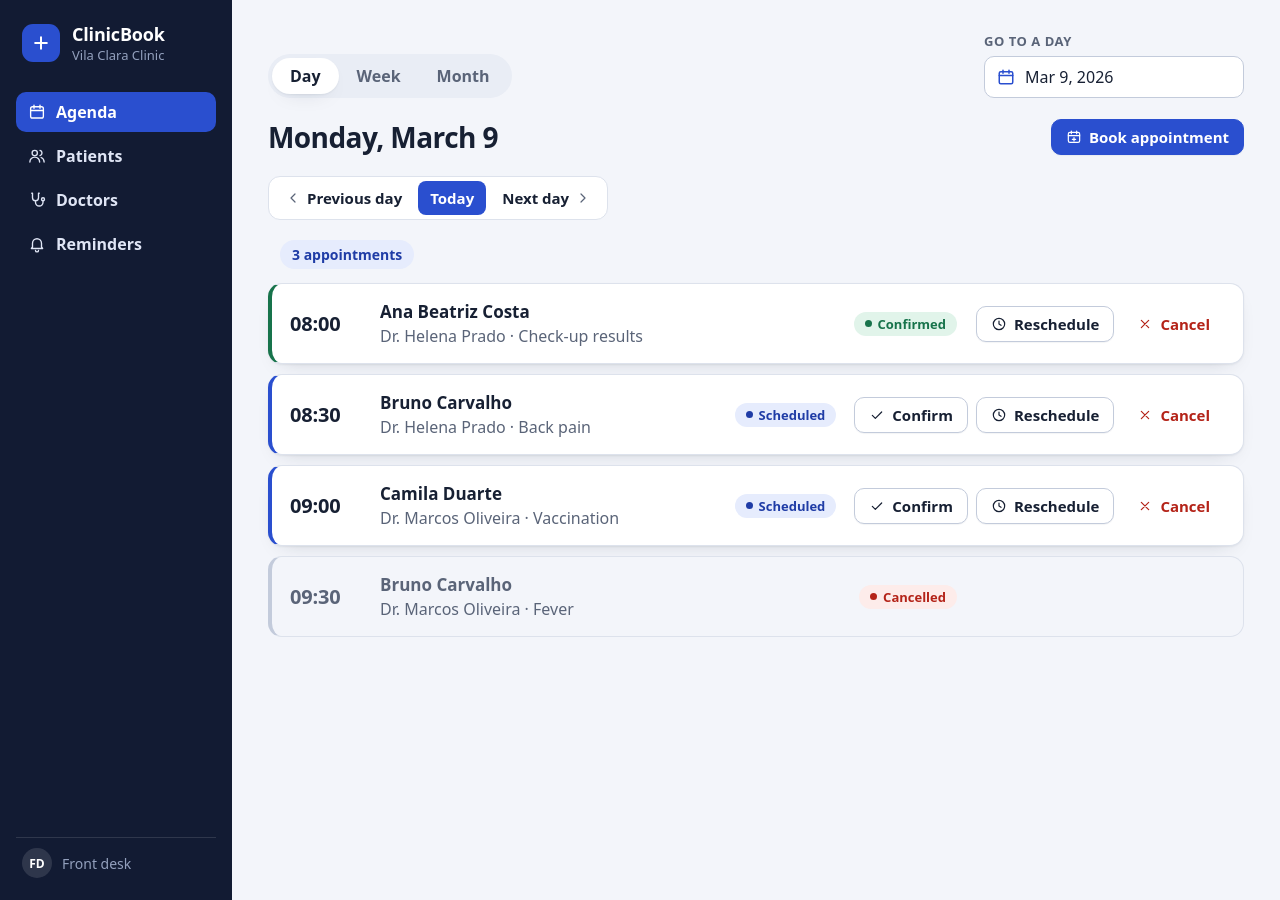
Test: the toasts › say that an appointment of the agenda was confirmed, or why not
Expected: the navigation bar named "Main" is shown, [16,92,216,264]
Click the button with aria-label "Confirm Bruno Carvalho at 08:30".
click(911, 414)  # box [854,396,968,432]
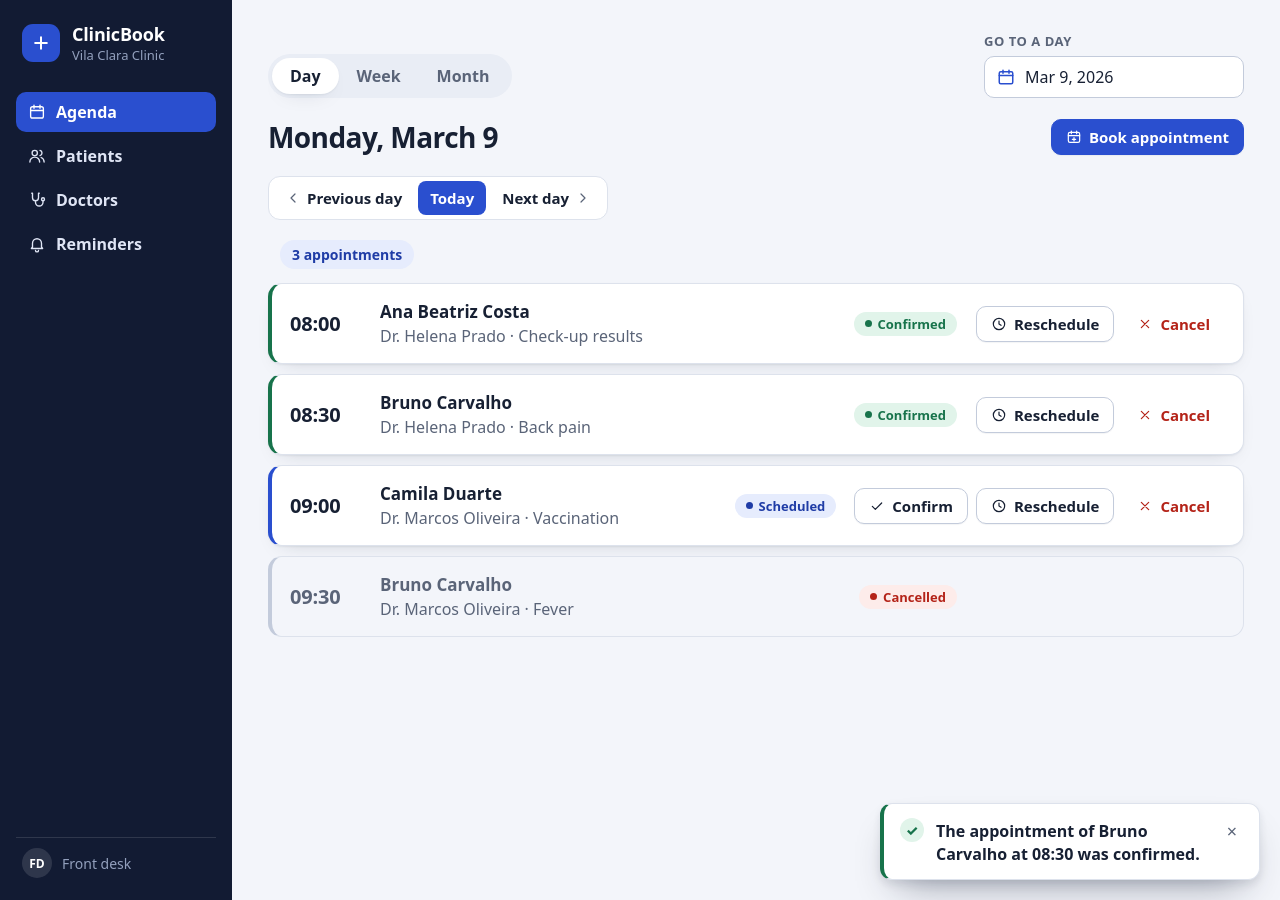
Expected: the message reads "The appointment of Bruno Carvalho at 08:30 was confirmed.", [936,820,1200,865]
Click the button with aria-label "Confirm Camila Duarte at 09:00".
click(911, 506)  # box [854,488,968,524]
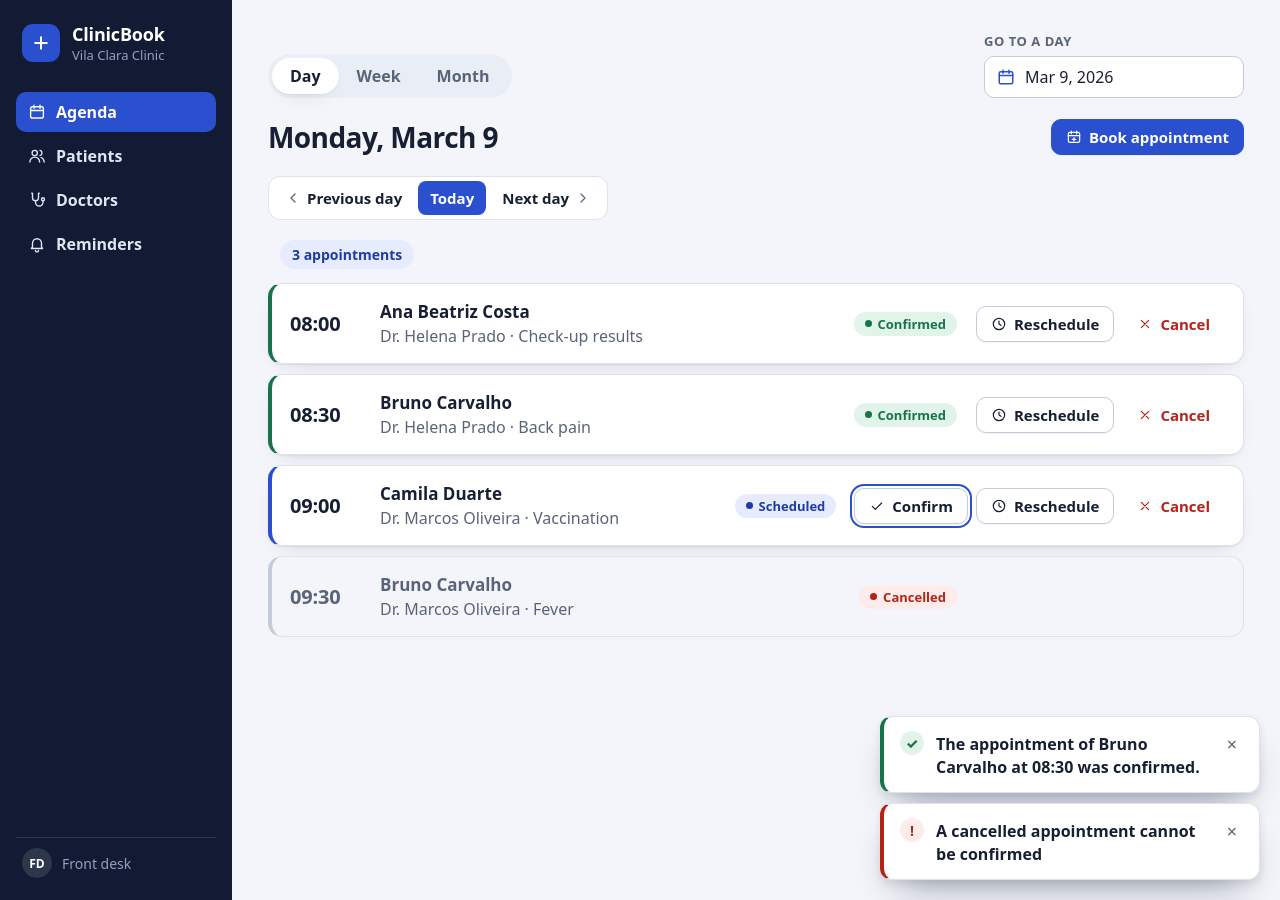
Expected: the message "A cancelled appointment cannot be confirmed" is shown, [936,820,1207,865]
